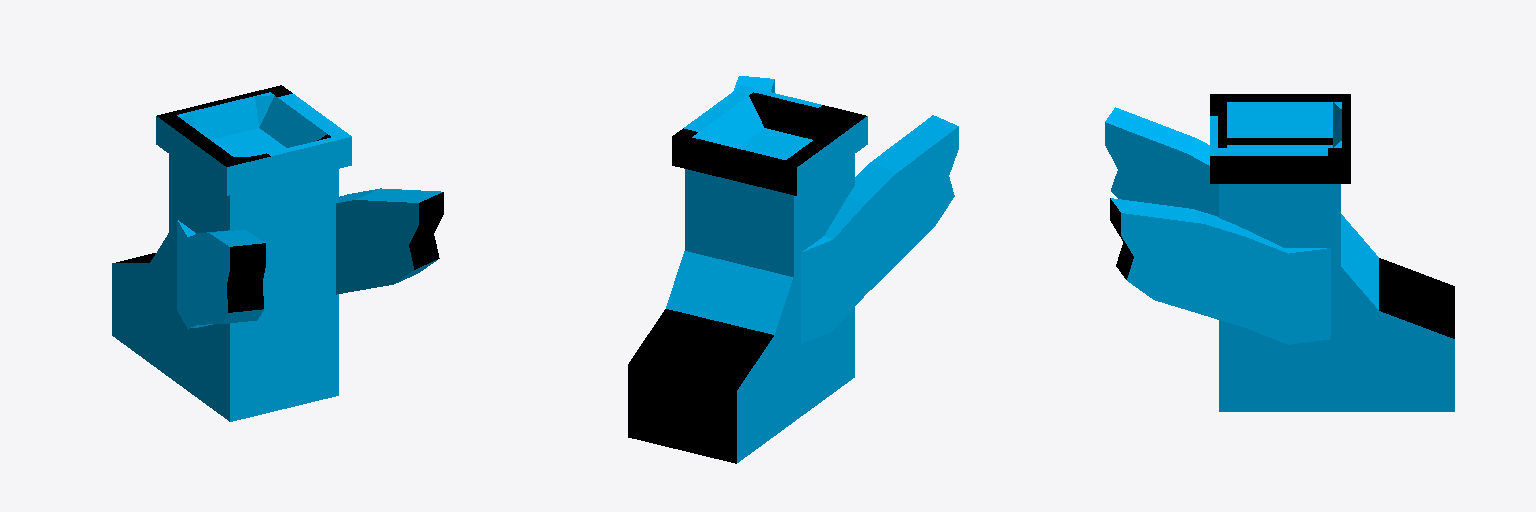
3 views of the same model, side by side, from view 1: azimuth 30°, elevation 25°; view 2: azimuth 150°, elevation 25°; view 3: azimuth 270°, elevation 25° (orthographic).
Visible parts, largest first — view 1: Cube; view 2: Cube; view 3: Cube.
Boxes of the visible parts, x1,y1,x2,y2 form: Cube: [112, 85, 443, 421]; Cube: [628, 76, 958, 463]; Cube: [1105, 94, 1454, 411].
Bounding box in the file's own units: 1.57 × 1.79 × 2.19.
Materials: 1 (1 with a texture image).